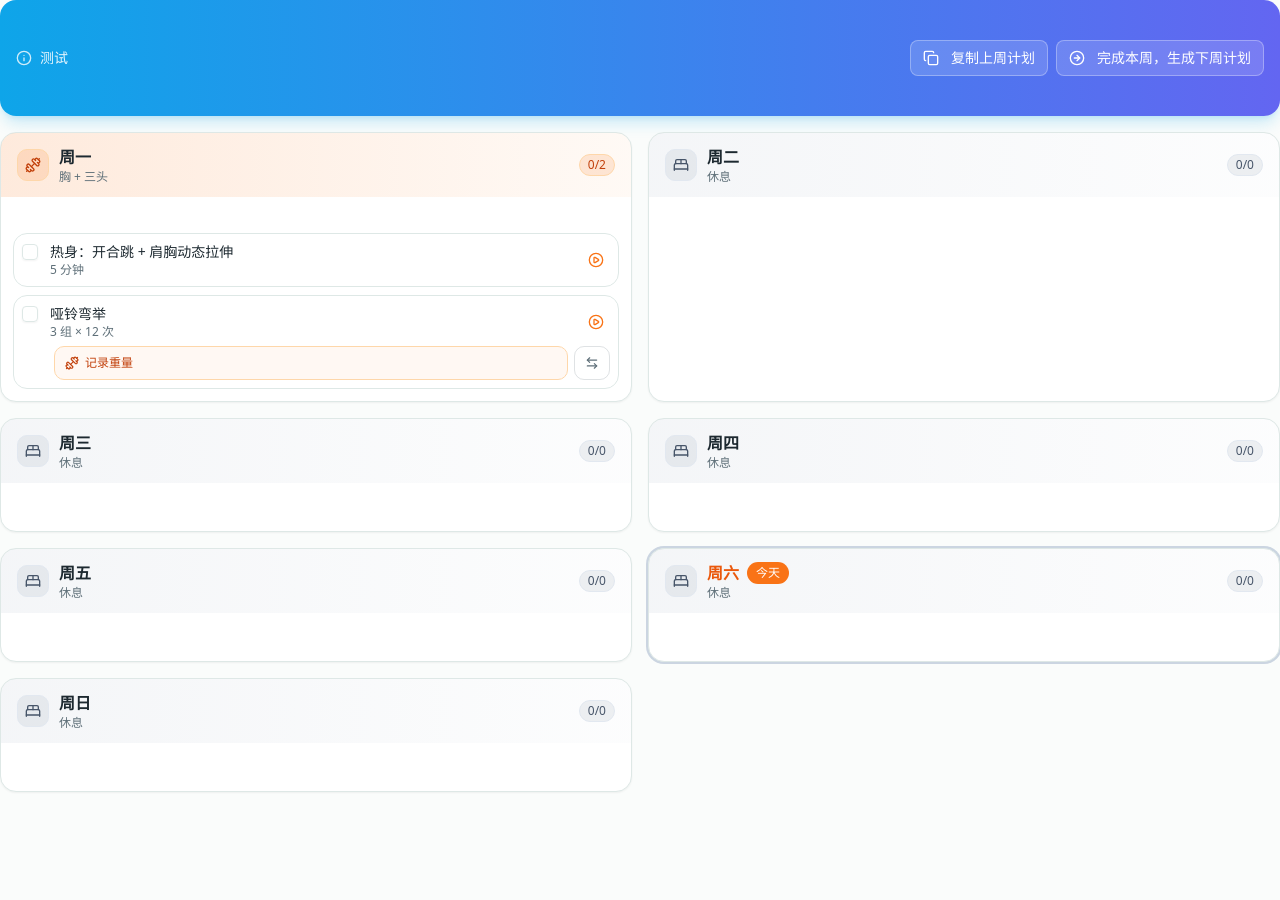
Test: 动作替换 › 弹窗候选为同肌群池且不含当前动作，组数按当周口径
What coordinates should you click on to do the following:
click the 6th button
I would click on:
 (592, 363)
Its box is x1=574 y1=346 x2=610 y2=380.
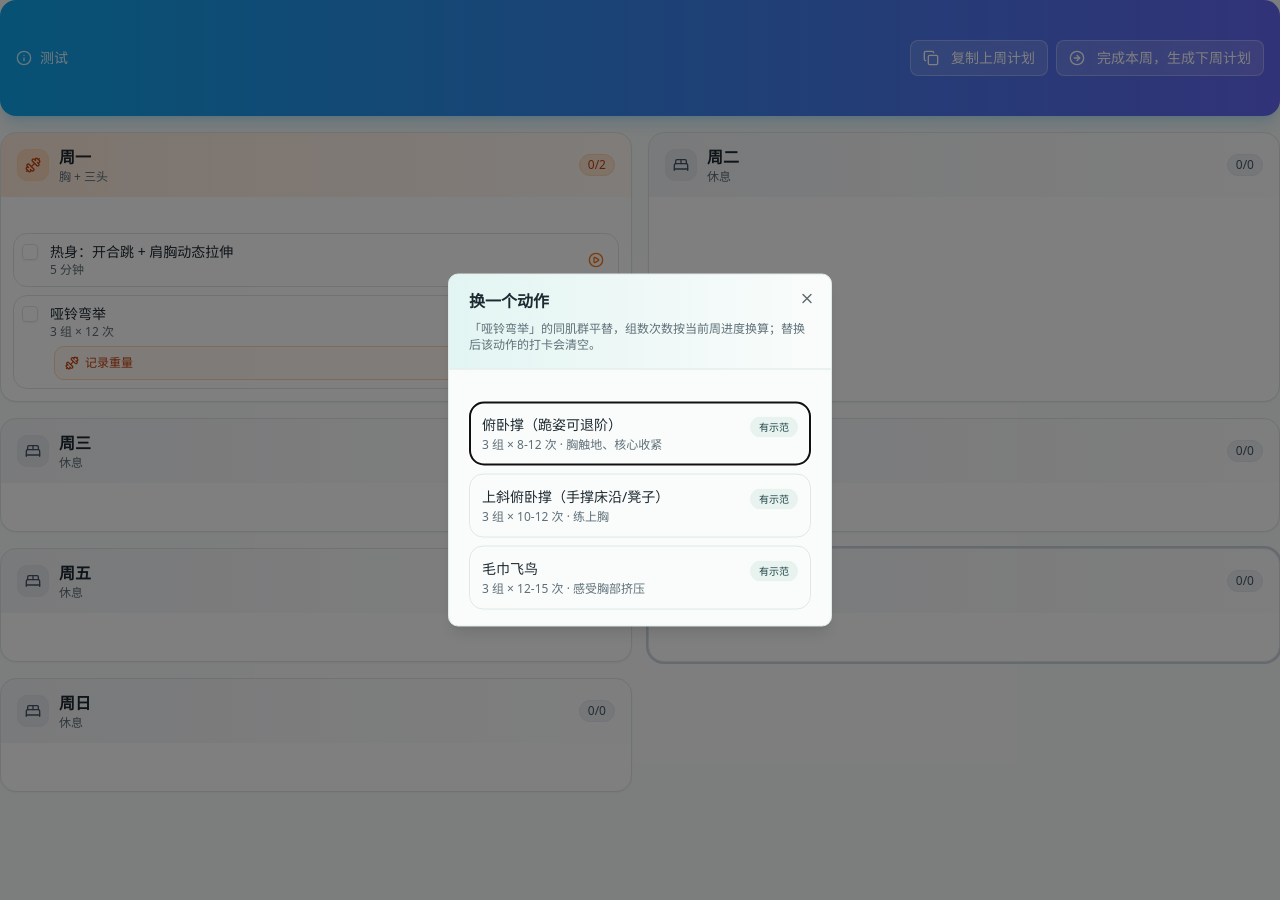
expect the text "毛巾飞鸟" is shown: met, box x1=482 y1=558 x2=538 y2=578
expect the text "上斜俯卧撑（手撑床沿/凳子）" is shown: met, box x1=482 y1=486 x2=669 y2=506
expect the text "3 组 × 8-12 次 · 胸触地、核心收紧" is shown: met, box x1=482 y1=436 x2=662 y2=452
